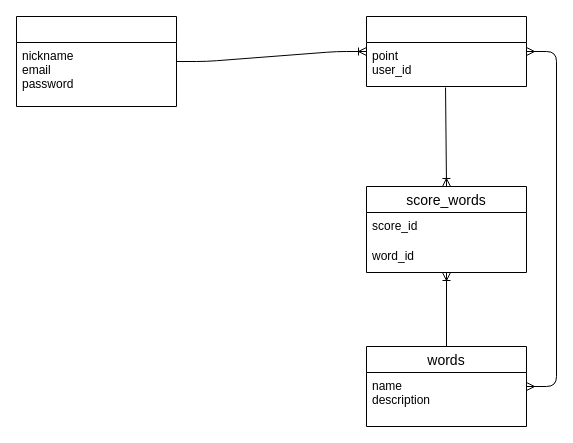
This 573x443 diagram has some shape labels left out. The shapes that lost their labels are listed below. From the top down, each one's box as (x1, y1, x2, y2) in pixels, then its label:
(16, 16, 176, 106): users
(366, 16, 526, 86): scores
